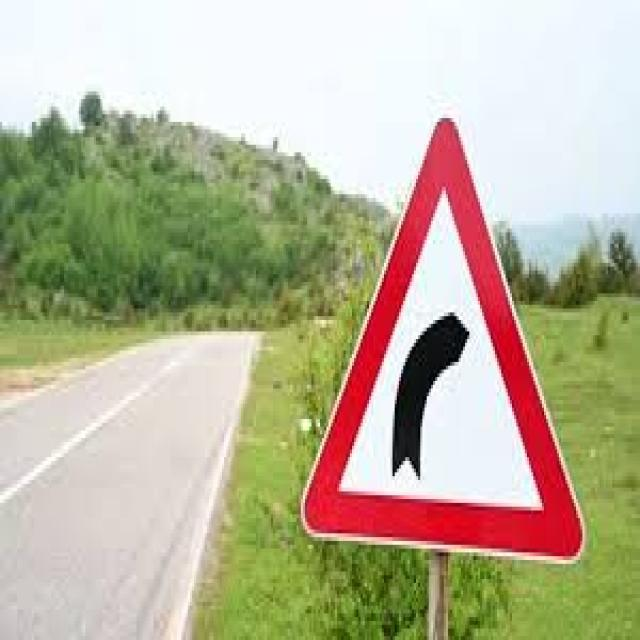warn_right_curve: (298, 113, 588, 569)
